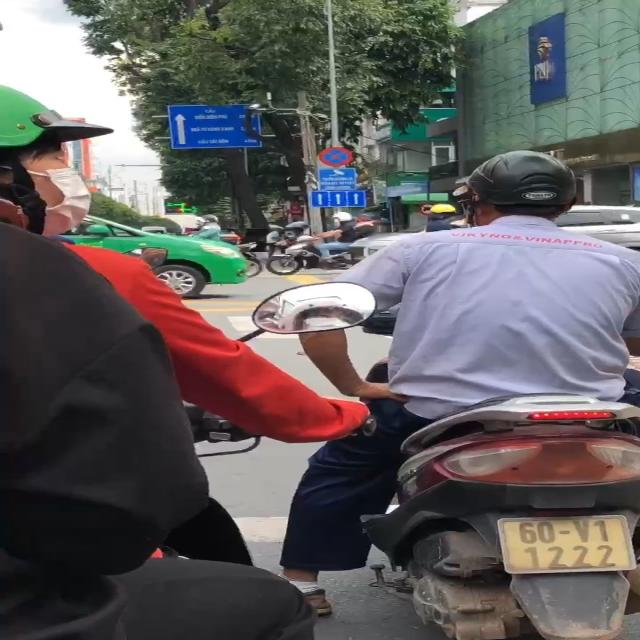Bien bao cam dung xe va do xe: (318, 146, 355, 168)
